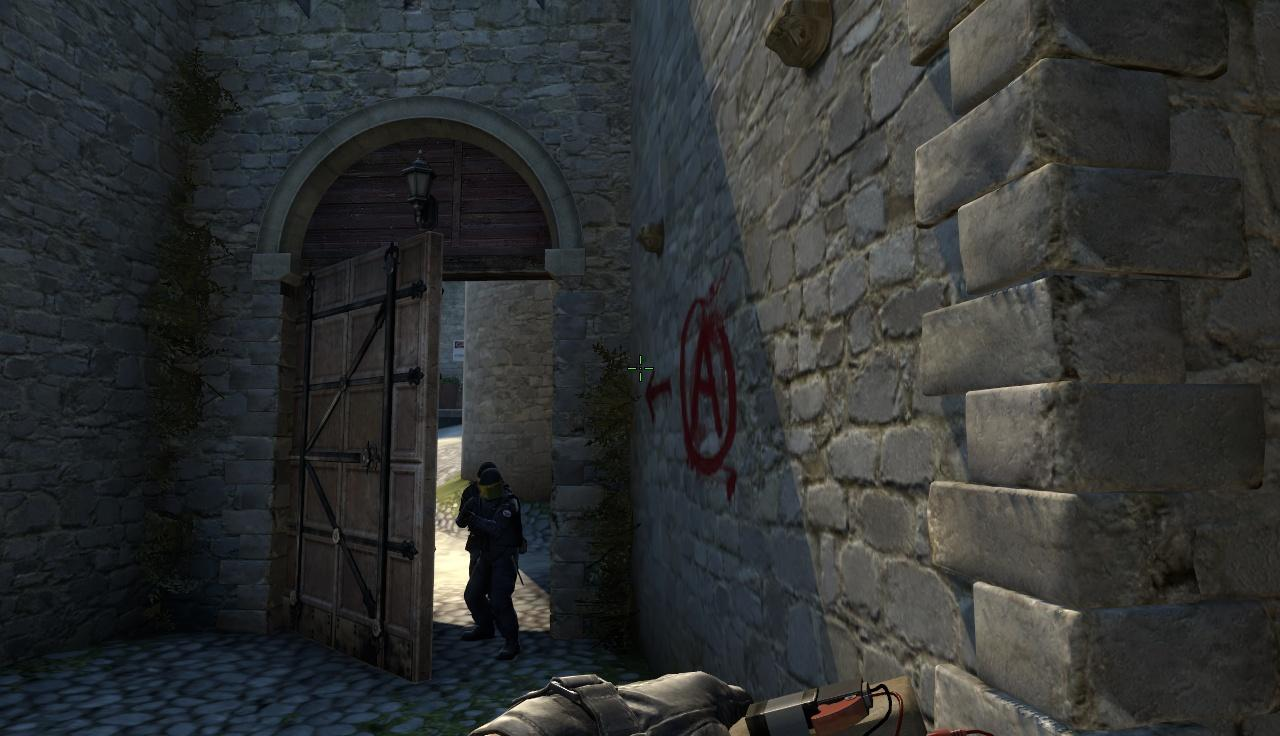ct: (468, 469, 519, 657)
cthead: (479, 469, 504, 498)
